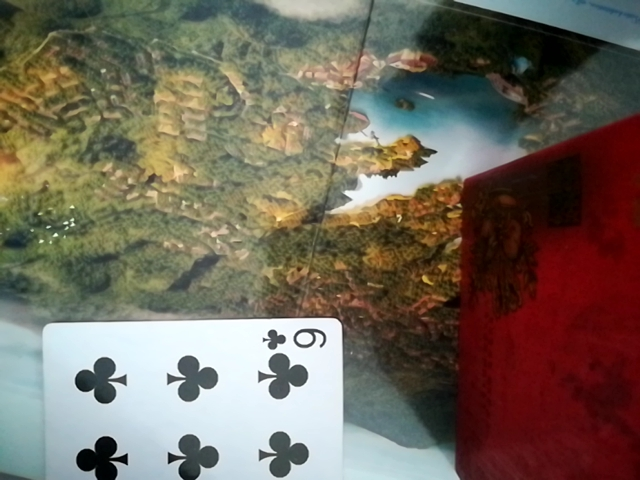mh 6: (30, 315, 349, 480)
